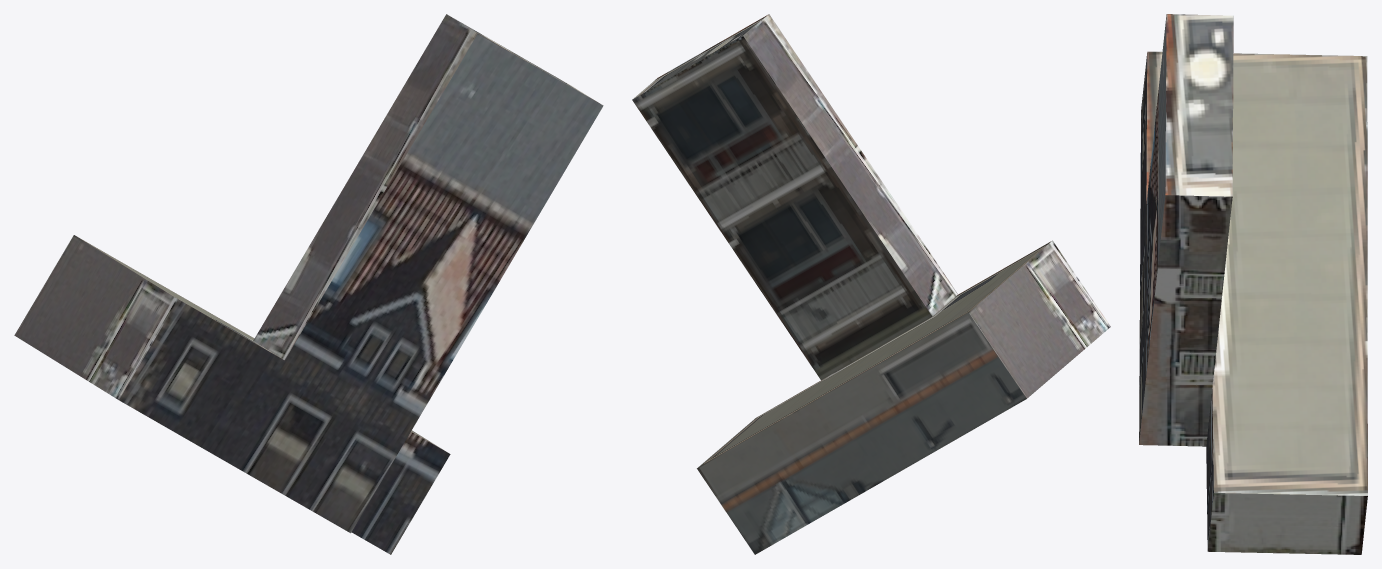
The picture shows the model from 3 angles, left to right: view 1: azimuth 30°, elevation 25°; view 2: azimuth 150°, elevation 25°; view 3: azimuth 270°, elevation 25°; orthographic projection. The views are drawn at different scales.
Parts seen in each view (by area): view 1: BAG_0599100100019944 (×3); view 2: BAG_0599100100019944 (×3); view 3: BAG_0599100100019944 (×3).
Part boxes in pixels (bbox=[...]): BAG_0599100100019944 (×3): bbox=[14, 14, 603, 554]; BAG_0599100100019944 (×3): bbox=[632, 14, 1110, 554]; BAG_0599100100019944 (×3): bbox=[1139, 14, 1367, 554].
Bounding box in the file's own units: 11.48 × 11.45 × 4.09.
Materials: 3 (3 with a texture image).
